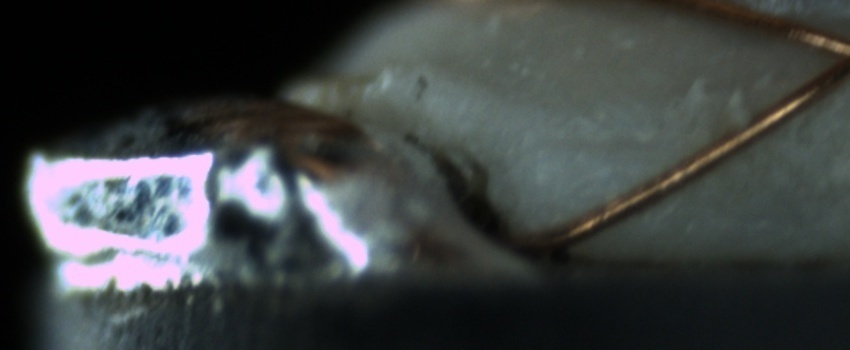CL: (804, 19, 850, 95)
DL: (535, 110, 675, 178)
